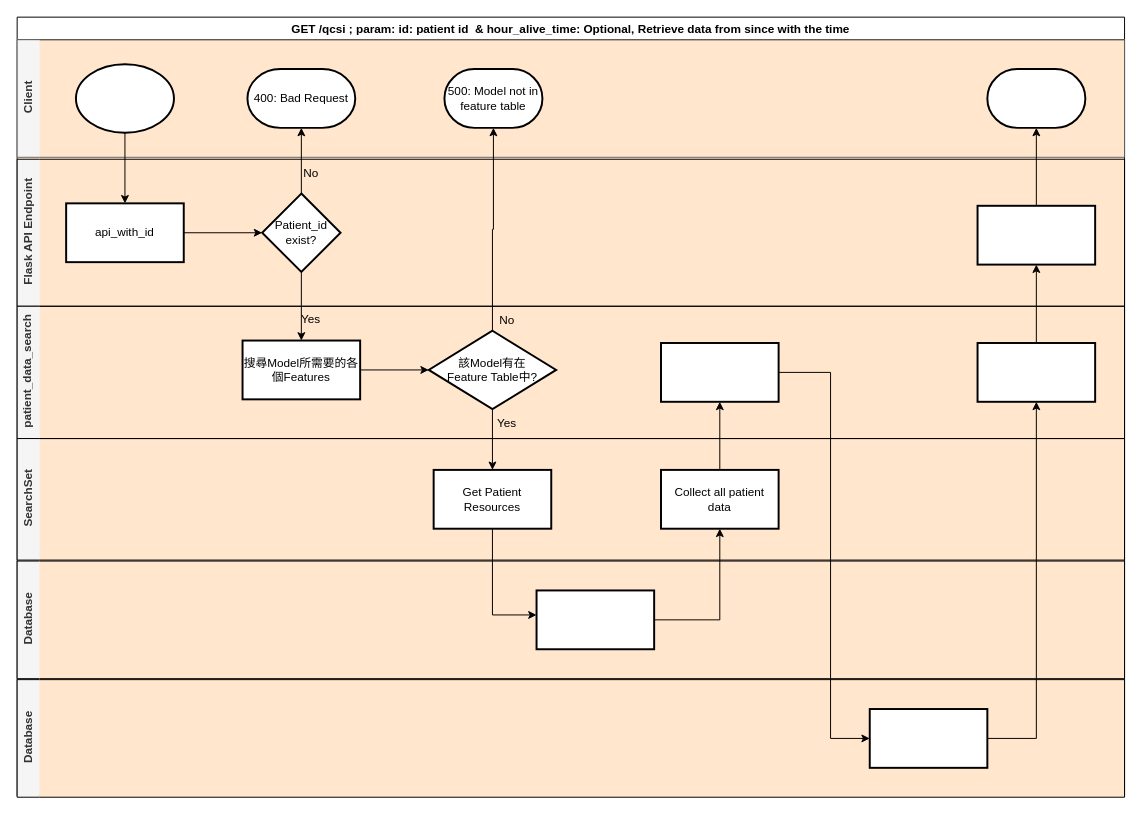
Some shapes in this 1142 by 814 pixel diagram are drawn without their labels. The centre of each missing label's shape, as x and y in pixels:
"200: Response" belongs at [1036,98].
"Calculate Score" belongs at [928,738].
"Map the data into compliable format" belongs at [719,372].
"Request" belongs at [124,98].
"Return patient data" belongs at [595,619].
"回傳結果與本次使用的數據" belongs at [1036,234].
"將結果與本次使用的數據回傳" belongs at [1036,372].
